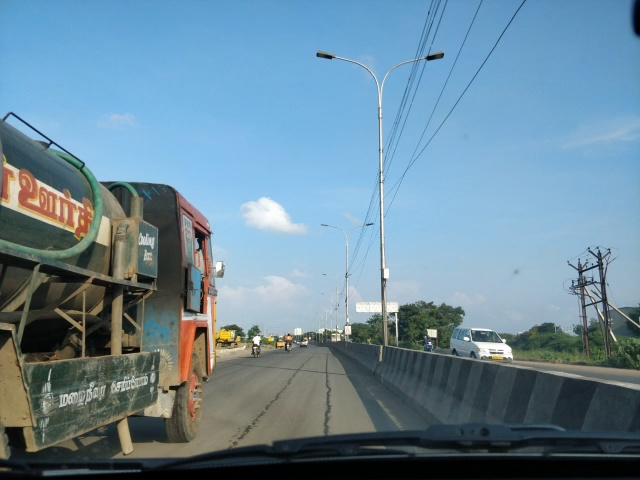auto: (275, 336, 285, 348)
car: (451, 324, 516, 375), (300, 337, 308, 348)
motorbike: (420, 331, 436, 360), (250, 332, 265, 359), (285, 332, 294, 353)
truck: (1, 96, 227, 479)
